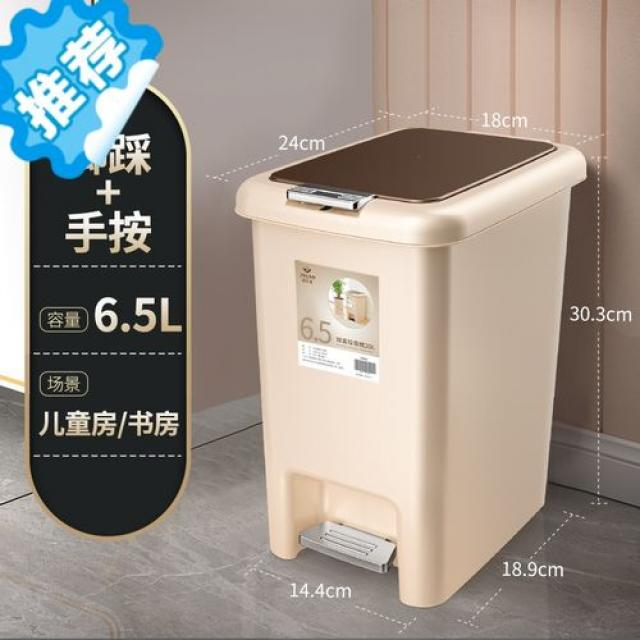Dustbin: (230, 119, 590, 615)
